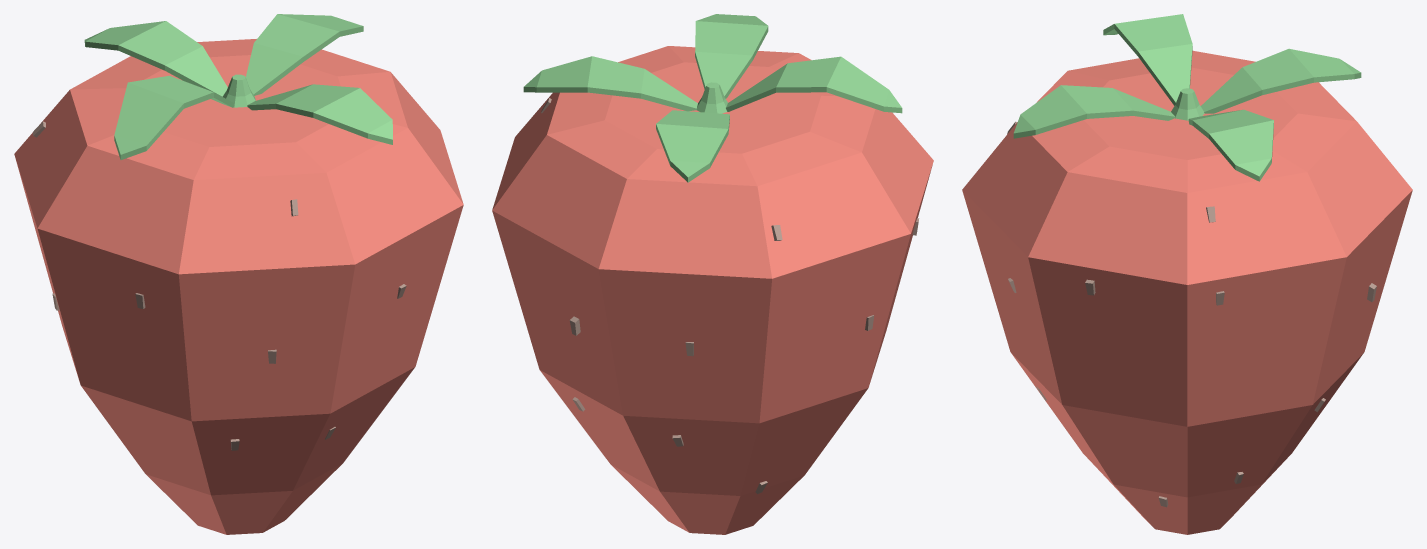
File: Strawberry_01.gltf
The picture shows the model from 3 angles, left to right: view 1: azimuth 30°, elevation 25°; view 2: azimuth 150°, elevation 25°; view 3: azimuth 270°, elevation 25°; orthographic projection. The views are drawn at different scales.
Visible parts, largest first — view 1: node-0; view 2: node-0; view 3: node-0.
Part boxes in pixels (<box>): node-0: <box>14,14,463,534</box>; node-0: <box>492,14,933,534</box>; node-0: <box>962,14,1412,534</box>.
Bounding box in the file's own units: 8.74 × 9.97 × 8.74.
